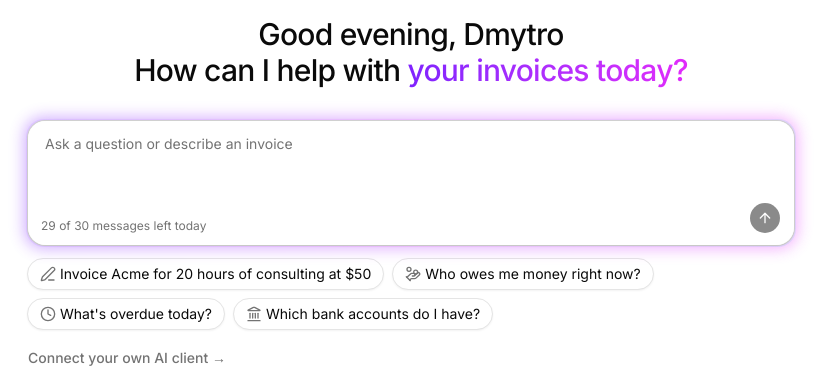
Test case: first send from a start point › a 429 on the first message returns to the centred layout with the server text
Step 1. Type "Who owes me money?" into the text box named "Message" → (411, 162), box left=29, top=122, right=793, bottom=202
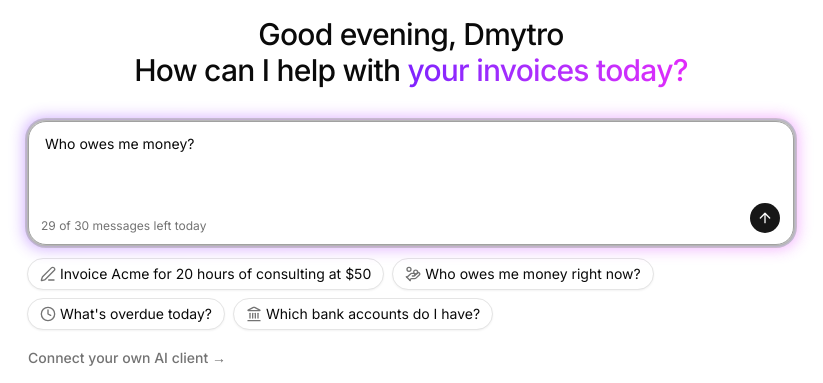
Step 2. Click the button named "Send" → (765, 218), box left=749, top=202, right=781, bottom=234
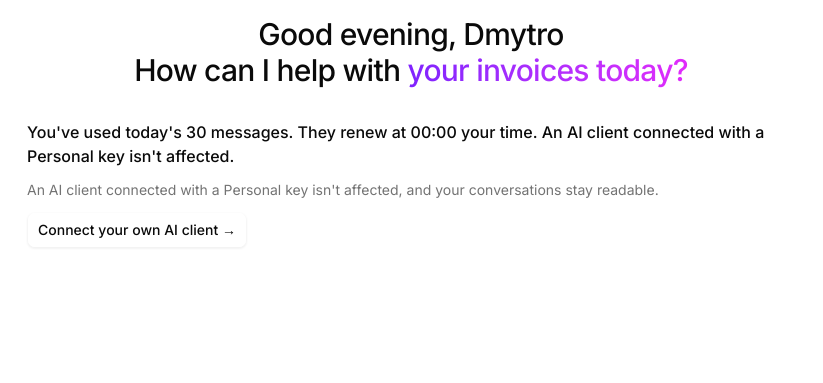
Expected: the text "You've used today's 30 messages. They renew at 00:00 your time. An AI client connected with a Personal key isn't affecte" is shown, left=27, top=122, right=764, bottom=166
Expected: the button "Who owes me money?" is gone
Expected: the element that starts with "Good evening, Dmytro" is shown, left=27, top=16, right=764, bottom=248
